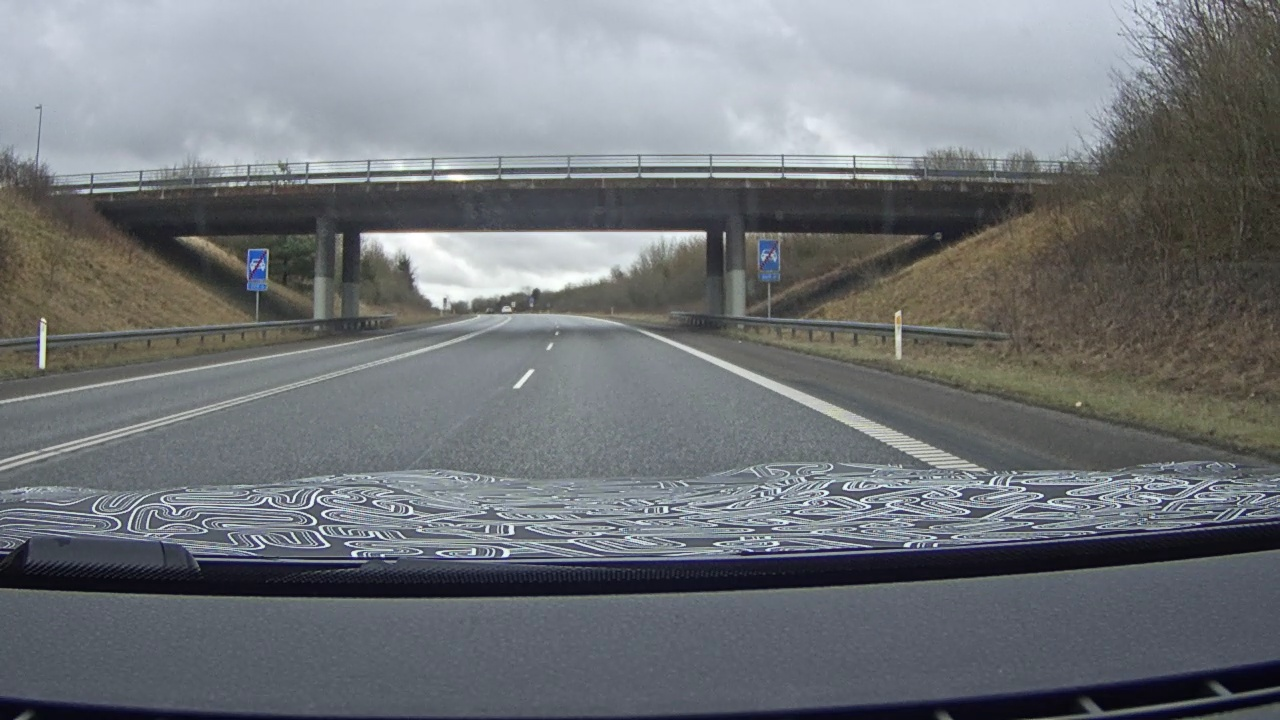Expressway_End: (246, 247, 269, 283), (758, 240, 780, 273)
